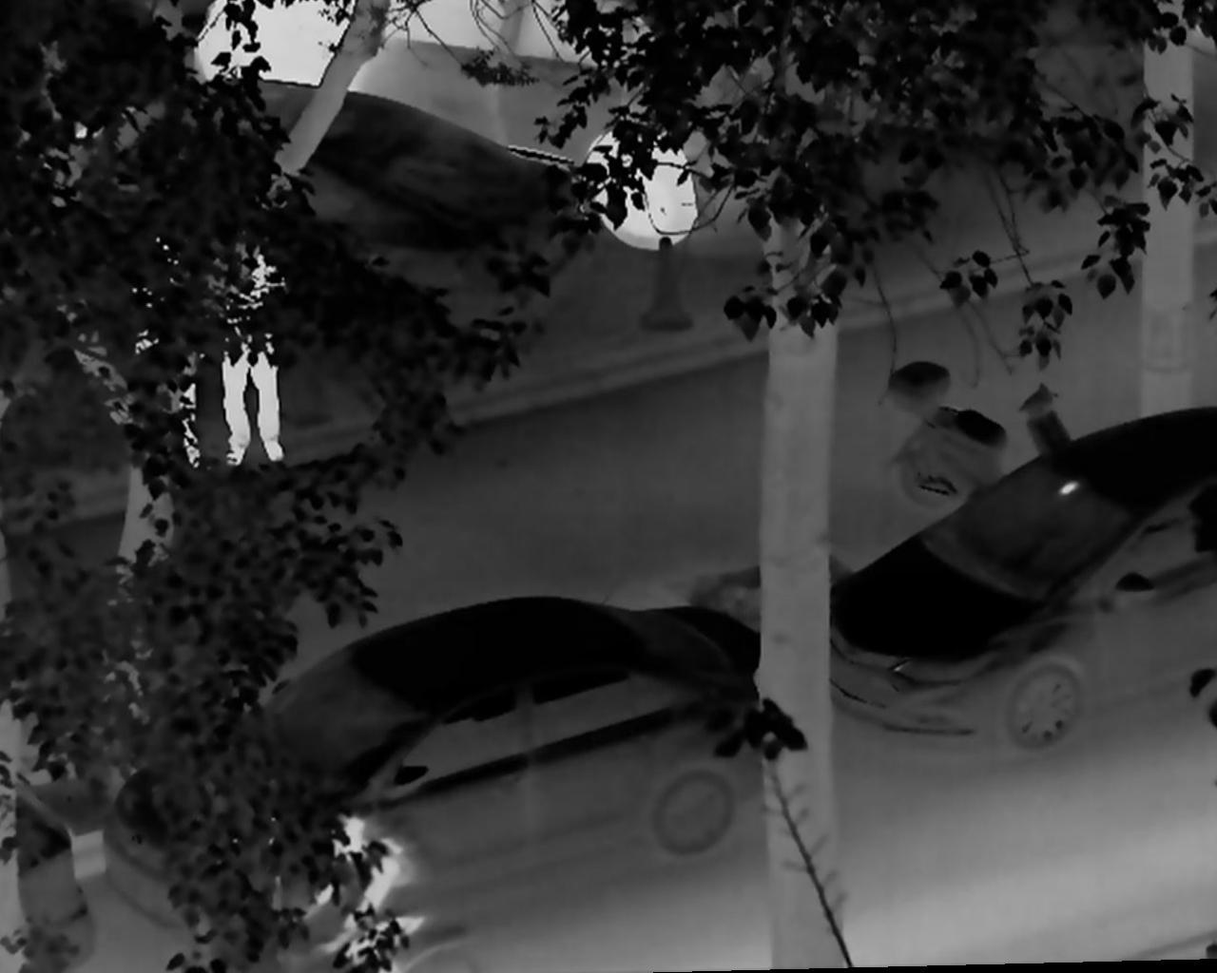person: (203, 230, 301, 468), (297, 802, 432, 973)
